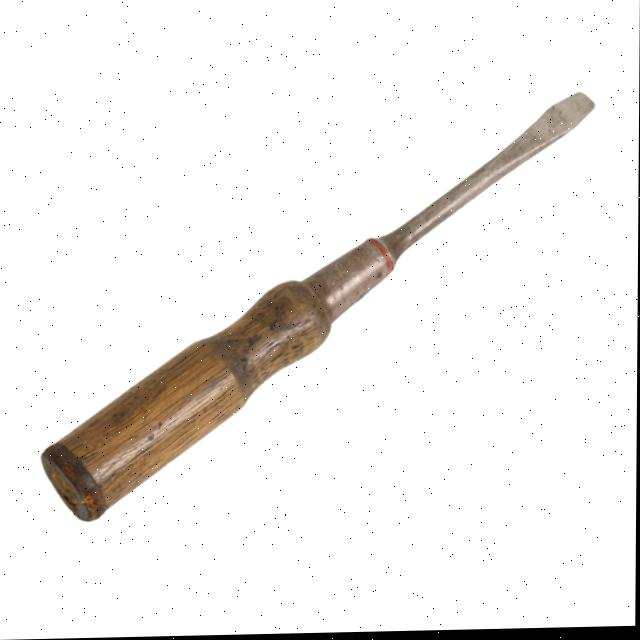Screwdriver: (42, 96, 593, 520)
